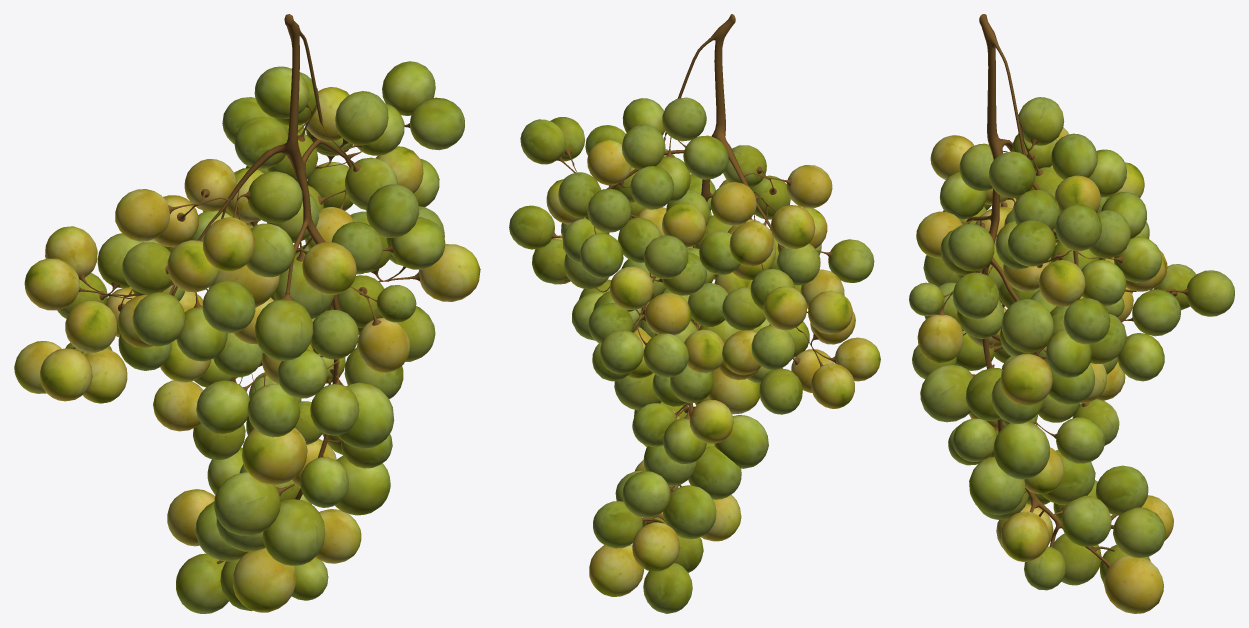
3 views of the same model, side by side, from view 1: azimuth 30°, elevation 25°; view 2: azimuth 150°, elevation 25°; view 3: azimuth 270°, elevation 25° (orthographic). The views are drawn at different scales.
Visible parts, largest first — view 1: uploads_files_2500408_grape.003; view 2: uploads_files_2500408_grape.003; view 3: uploads_files_2500408_grape.003.
Boxes of the visible parts, x1,y1,x2,y2 form: uploads_files_2500408_grape.003: (14, 14, 480, 613); uploads_files_2500408_grape.003: (509, 14, 880, 613); uploads_files_2500408_grape.003: (909, 14, 1234, 613).
Size of the model in its own units: 0.9857 by 1.46 by 0.7431.
Materials: 2 (2 with a texture image).
